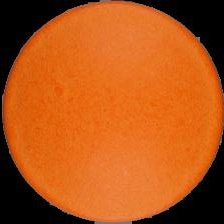67046-164: (0, 0, 224, 224)
